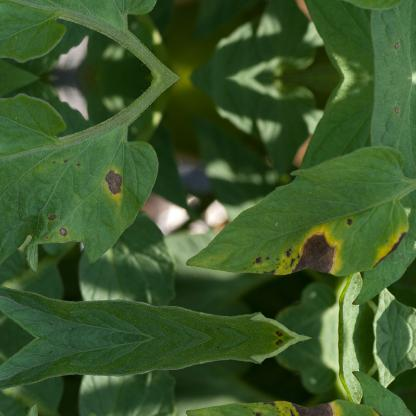Early-Blight: (232, 178, 414, 300), (28, 115, 176, 259), (231, 376, 414, 416), (28, 0, 175, 41)
